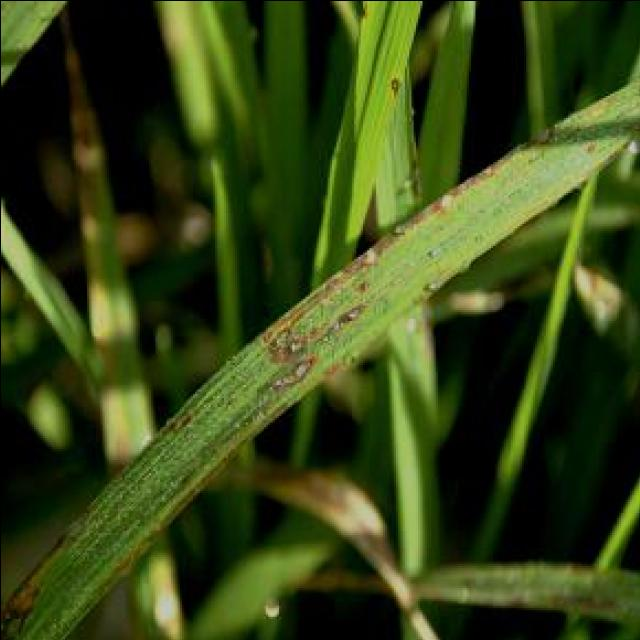Leaf_Blast: (263, 340, 333, 404), (328, 296, 386, 344), (256, 311, 298, 362)
